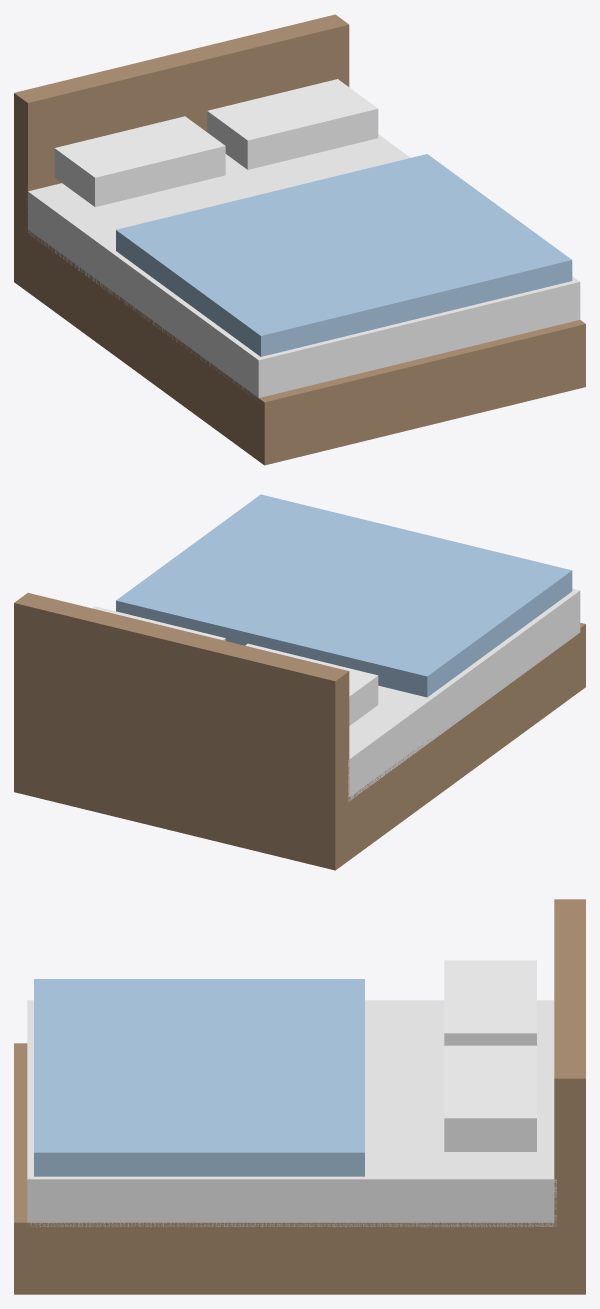
Rendered from bed.glb.
3 renders of one model, top to bottom at view 1: azimuth 30°, elevation 25°; view 2: azimuth 150°, elevation 25°; view 3: azimuth 270°, elevation 25°, orthographic. The views are drawn at different scales.
Visible parts, largest first — view 1: root; view 2: root; view 3: root.
Boxes of the visible parts, x1=… form: root: x1=14, y1=14, x2=585, y2=465; root: x1=14, y1=494, x2=585, y2=870; root: x1=14, y1=899, x2=585, y2=1294.
Bounding box in the file's own units: 1.6 × 0.9 × 2.16.
